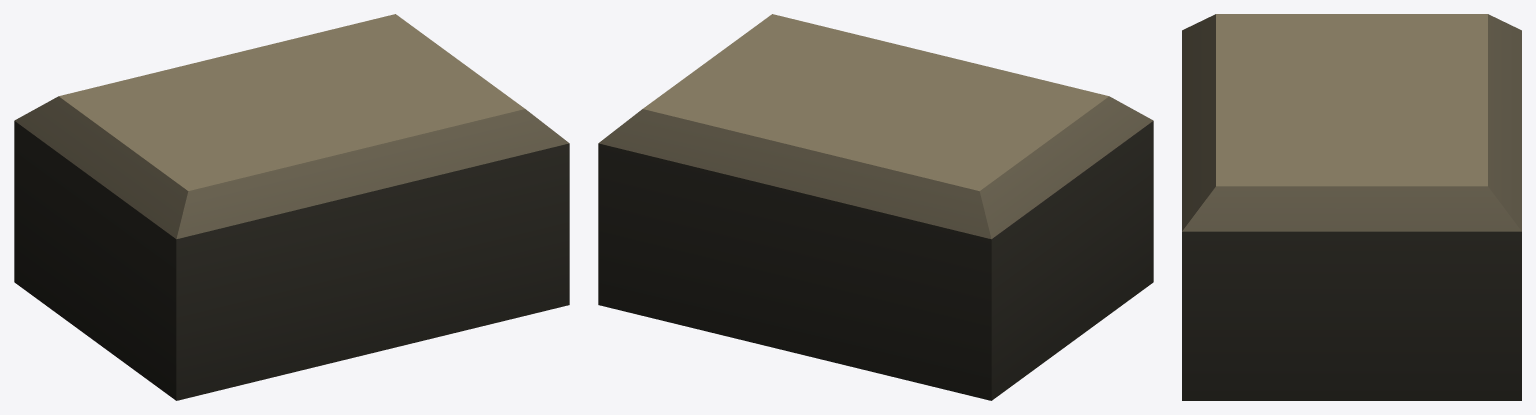
File: boiler.glb
The picture shows the model from 3 angles, left to right: view 1: azimuth 30°, elevation 25°; view 2: azimuth 150°, elevation 25°; view 3: azimuth 270°, elevation 25°; orthographic projection. The views are drawn at different scales.
Visible parts, largest first — view 1: boiler; view 2: boiler; view 3: boiler.
Part boxes in pixels (x1=…): boiler: x1=14, y1=14, x2=569, y2=400; boiler: x1=598, y1=14, x2=1153, y2=400; boiler: x1=1182, y1=14, x2=1521, y2=400.
Size of the model in its own units: 0.28 by 0.13 by 0.2.
